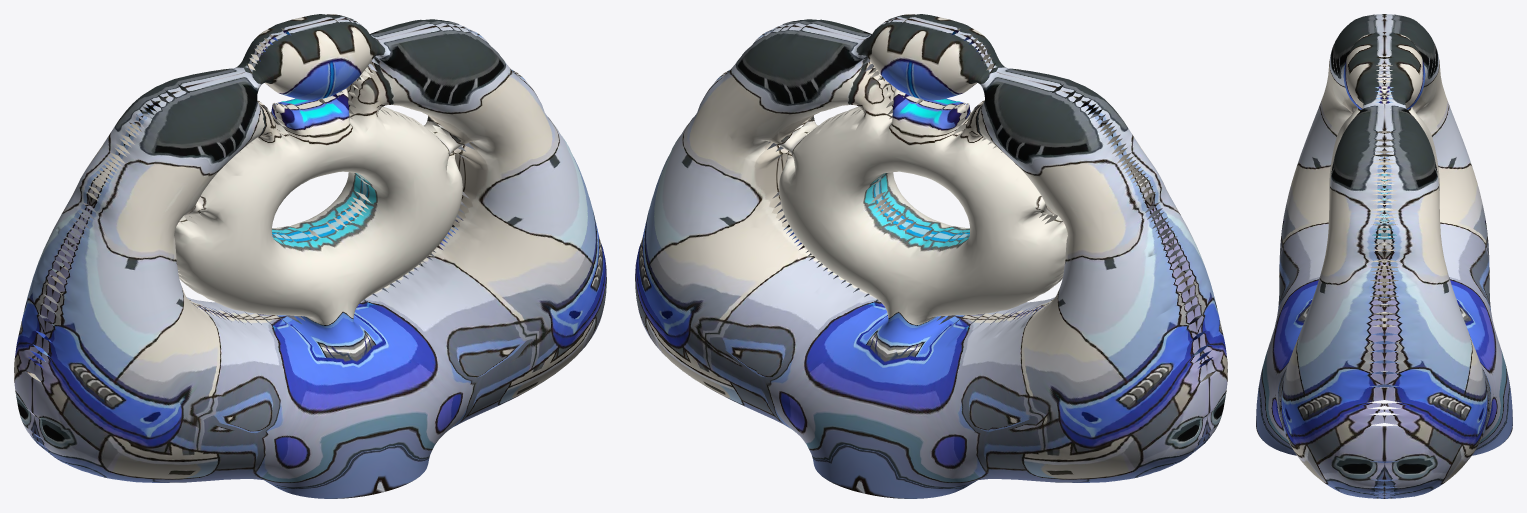
Rendered from station_hull.glb.
3 renders of one model, left to right at view 1: azimuth 30°, elevation 25°; view 2: azimuth 150°, elevation 25°; view 3: azimuth 270°, elevation 25°, orthographic. The views are drawn at different scales.
Parts seen in each view (by area): view 1: station_hull; view 2: station_hull; view 3: station_hull.
Boxes of the visible parts, x1=… form: station_hull: x1=14, y1=14, x2=606, y2=498; station_hull: x1=635, y1=14, x2=1227, y2=498; station_hull: x1=1256, y1=14, x2=1512, y2=498.
Bounding box in the file's own units: 0.9889 × 0.708 × 0.4343.
1 material, 1 textured.
